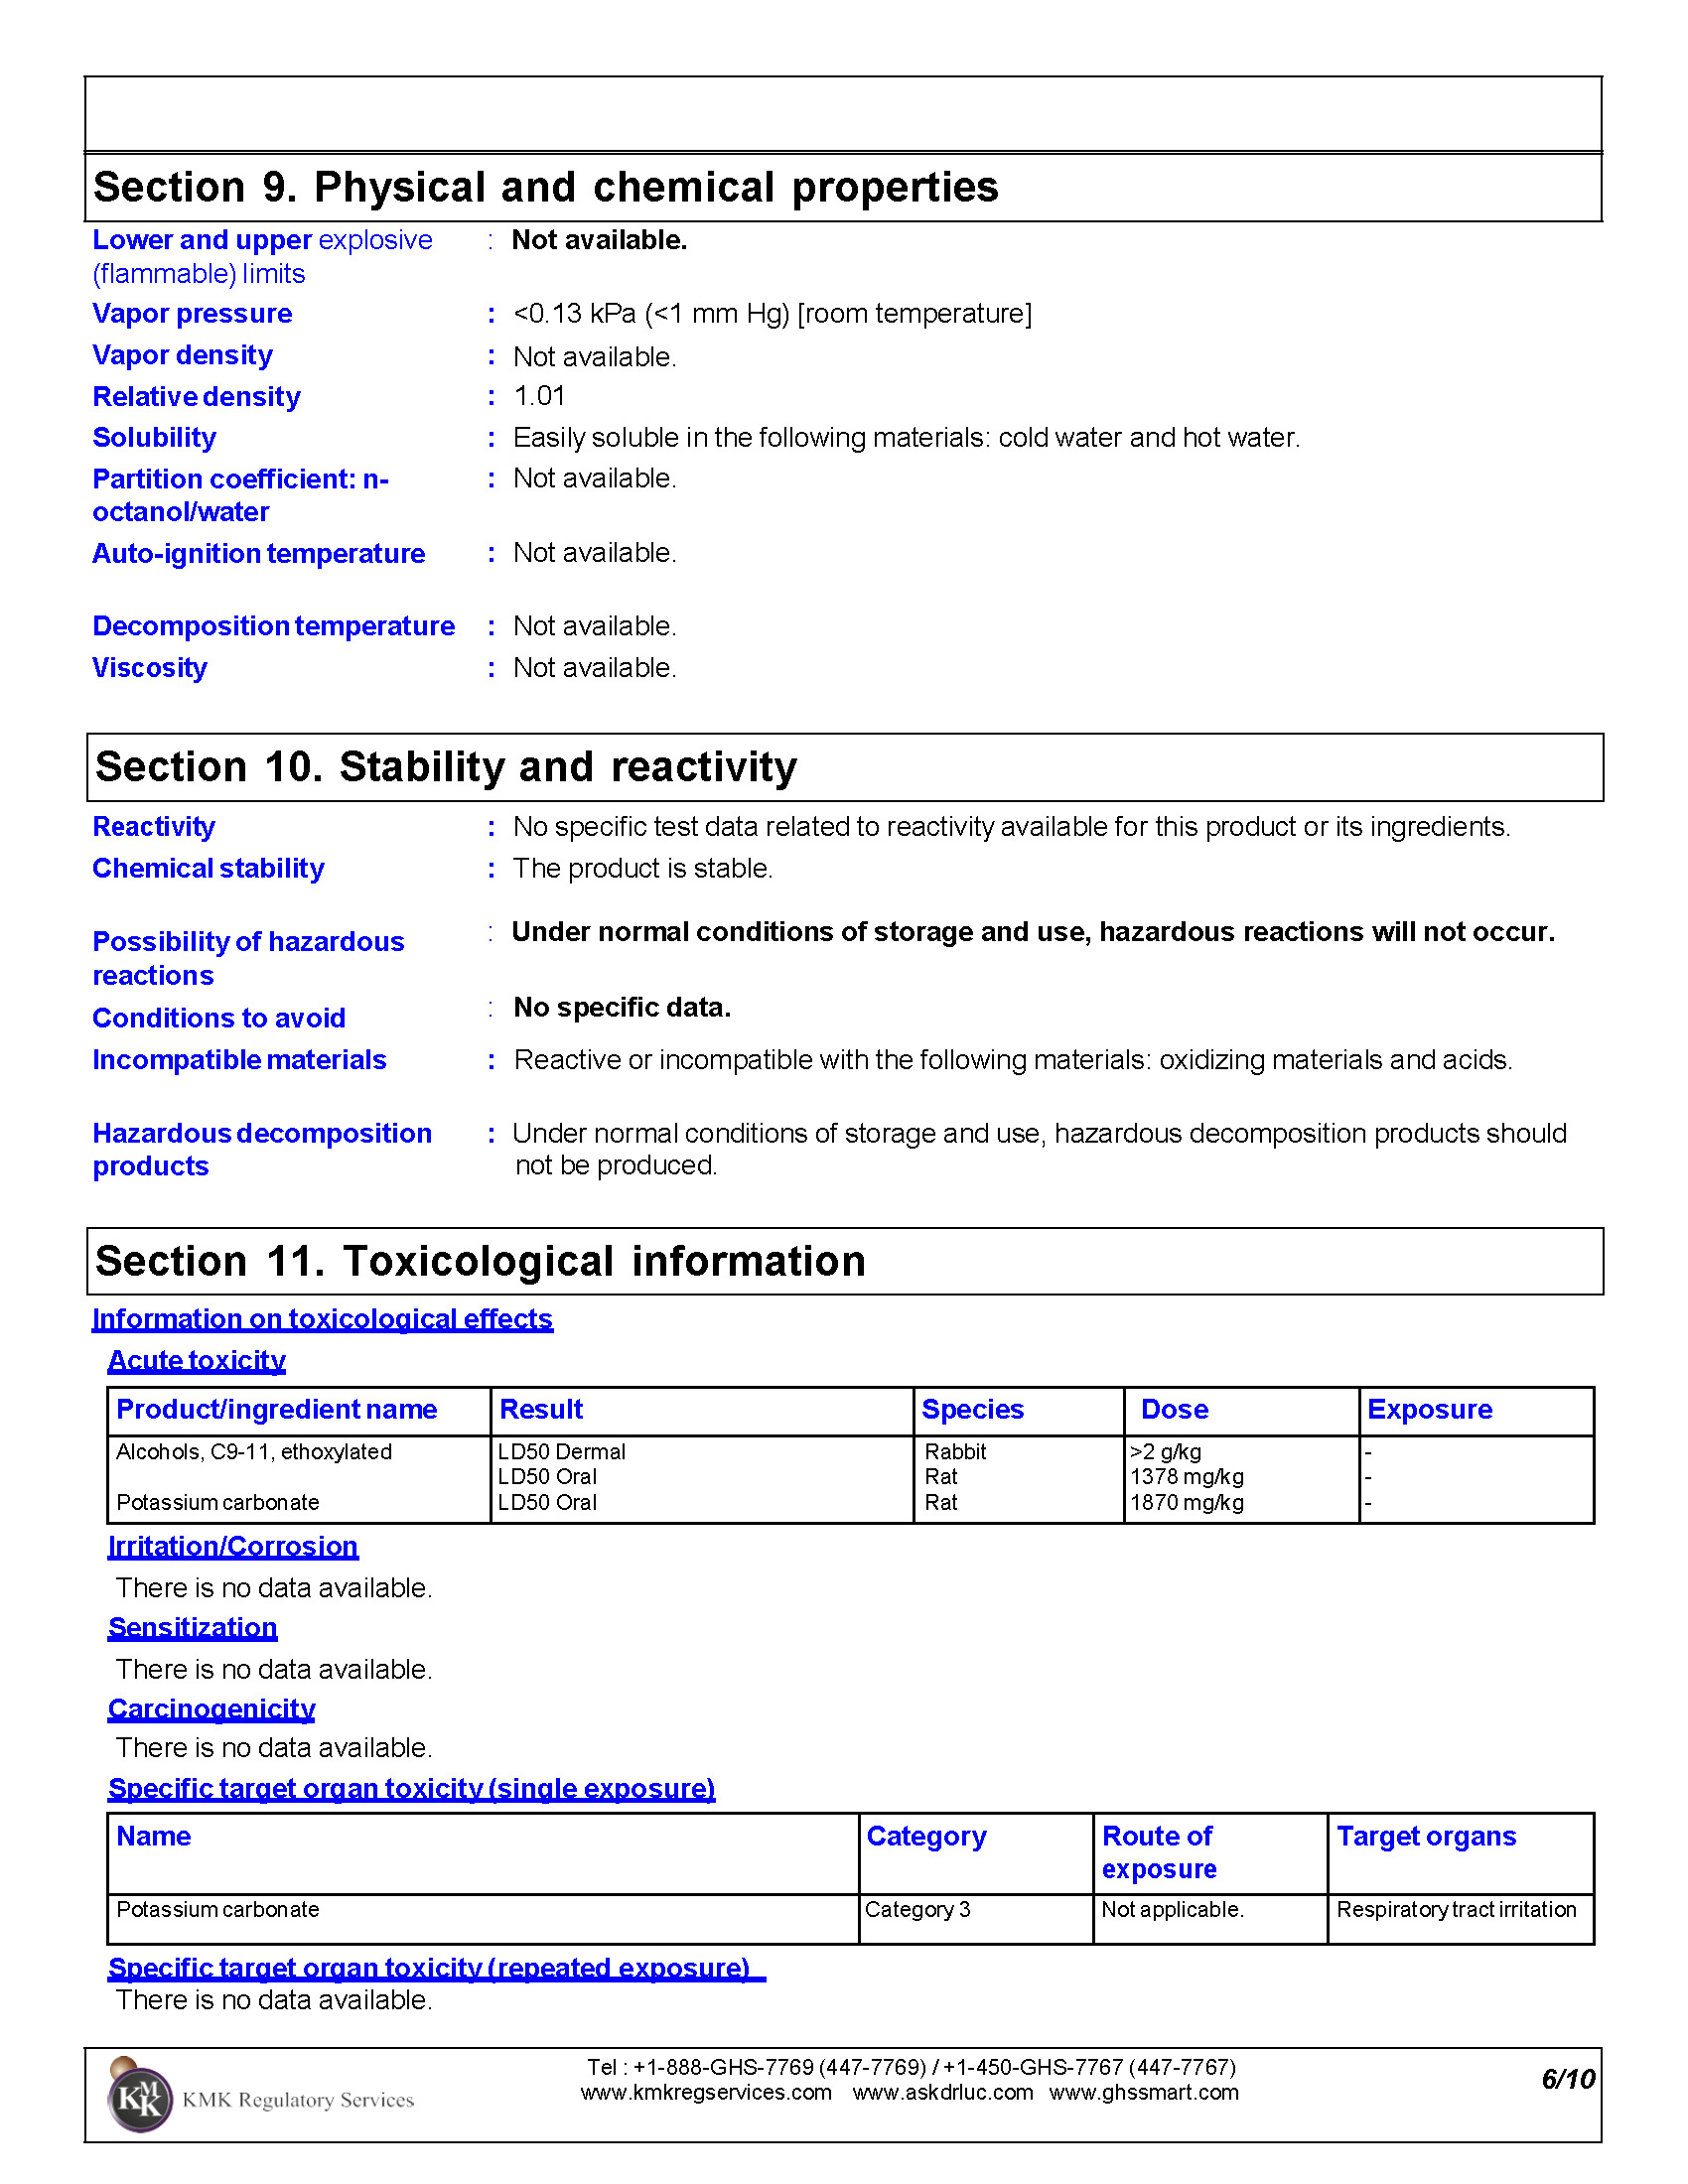table: (85, 222, 1301, 691), (87, 807, 1575, 1188), (106, 1386, 1596, 1523), (110, 1810, 1596, 1946)
